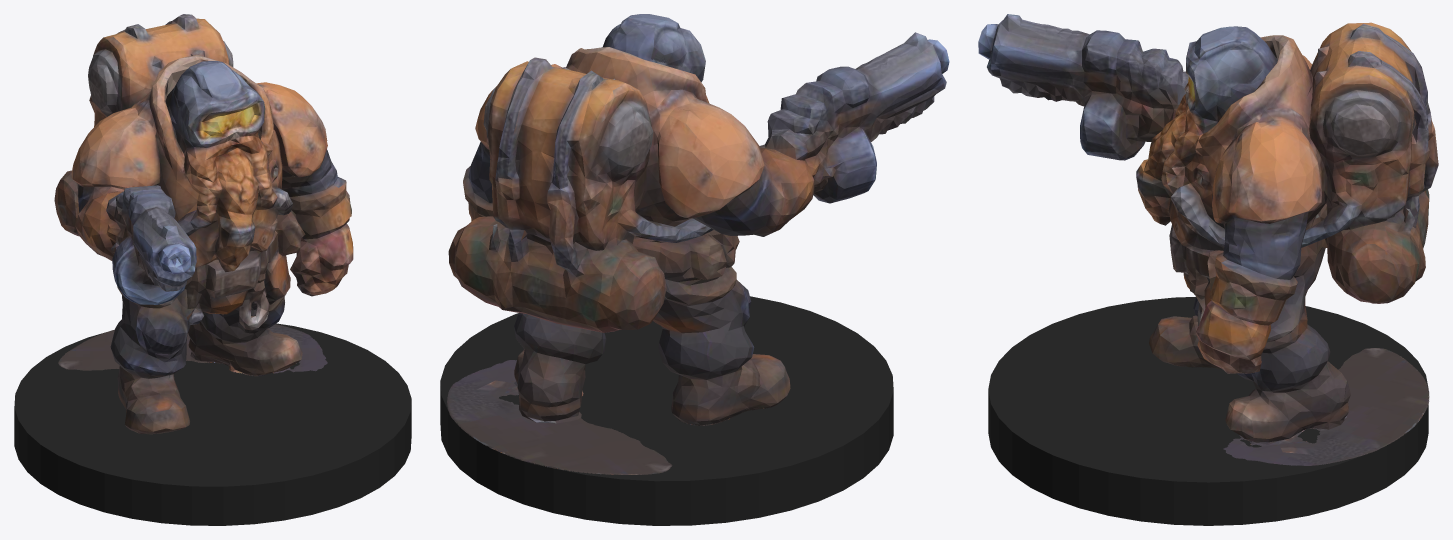
The model's file is hk-warrior-b.glb.
3 renders of one model, left to right at view 1: azimuth 30°, elevation 25°; view 2: azimuth 150°, elevation 25°; view 3: azimuth 270°, elevation 25°, orthographic. The views are drawn at different scales.
Visible parts, largest first — view 1: figure, base; view 2: figure, base; view 3: figure, base.
Boxes of the visible parts, bbox=[...] form: figure: bbox=[54, 14, 353, 434]; base: bbox=[14, 323, 411, 525]; figure: bbox=[447, 14, 949, 474]; base: bbox=[440, 296, 893, 525]; figure: bbox=[978, 14, 1438, 465]; base: bbox=[988, 297, 1428, 525].
Bounding box in the file's own units: 1.1 × 1.12 × 1.15.
Materials: 2 (1 with a texture image).
